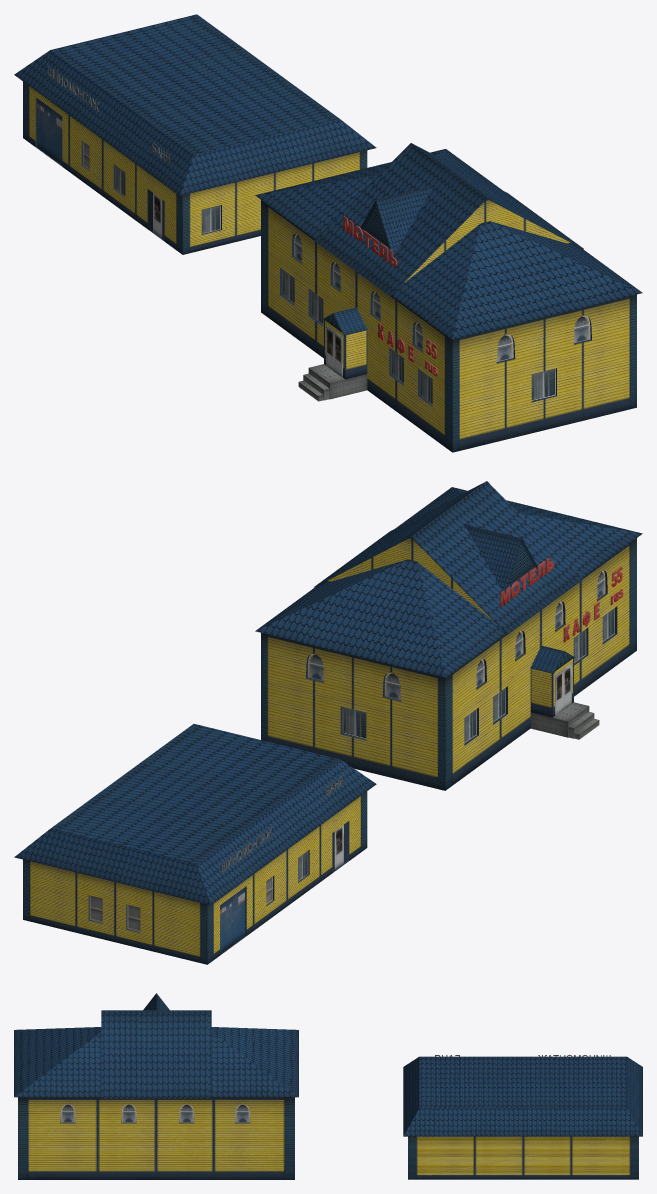
The model's file is r402_motel_55.FBX.
3 views of the same model, one above another, from view 1: azimuth 30°, elevation 25°; view 2: azimuth 150°, elevation 25°; view 3: azimuth 270°, elevation 25° (orthographic). The views are drawn at different scales.
Visible parts, largest first — view 1: r402_motel_55; view 2: r402_motel_55; view 3: r402_motel_55.
Part boxes in pixels (x1,y1,x2,y2): r402_motel_55: (14, 14, 642, 452); r402_motel_55: (14, 481, 642, 964); r402_motel_55: (14, 993, 642, 1179).
Size of the model in its own units: 12.95 by 40.84 by 9.8.
